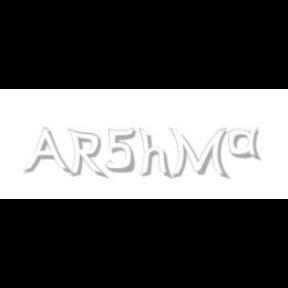5: (106, 128, 136, 174)
A: (23, 128, 71, 176)
M: (168, 128, 228, 180)
R: (67, 128, 105, 180)
a: (228, 128, 266, 160)
h: (138, 128, 173, 180)
